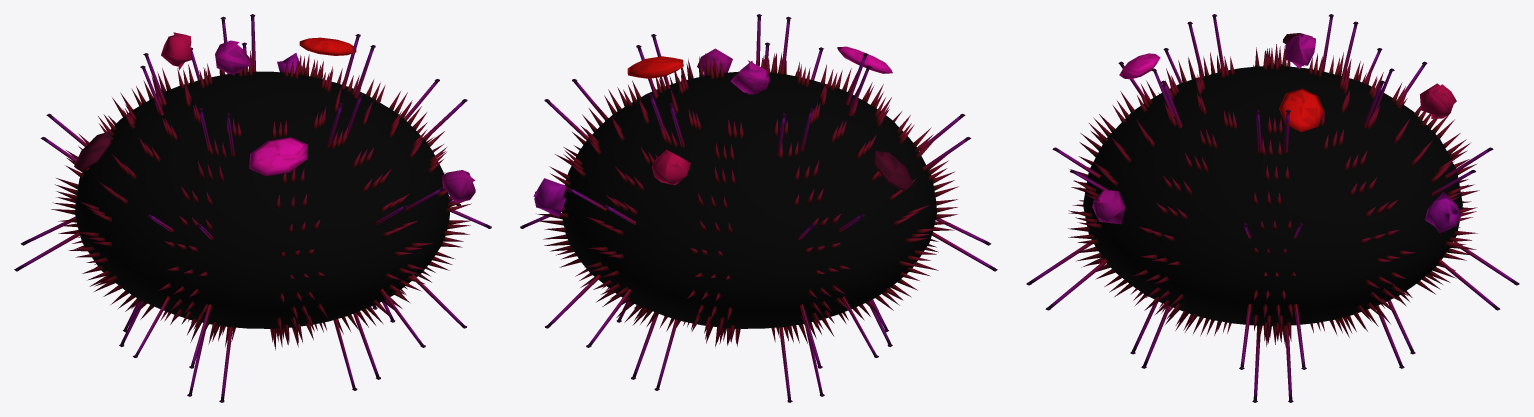
Rendered from tuxedo_urchin.glb.
3 renders of one model, left to right at view 1: azimuth 30°, elevation 25°; view 2: azimuth 150°, elevation 25°; view 3: azimuth 270°, elevation 25°, orthographic.
Parts seen in each view (by area): view 1: Test, Spines, TubeFeet, Debris; view 2: Test, Spines, TubeFeet, Debris; view 3: Test, Spines, TubeFeet, Debris.
Boxes of the visible parts, <box> form: Test: <box>75,71,449,328</box>; Spines: <box>51,50,471,350</box>; TubeFeet: <box>14,14,491,402</box>; Debris: <box>74,32,475,202</box>; Test: <box>562,71,936,328</box>; Spines: <box>536,49,958,346</box>; TubeFeet: <box>520,14,997,402</box>; Debris: <box>533,46,913,216</box>; Test: <box>1083,66,1462,325</box>; Spines: <box>1068,44,1479,347</box>; TubeFeet: <box>1026,14,1519,402</box>; Debris: <box>1092,33,1461,233</box>.
Bounding box in the file's own units: 1.24 × 0.8774 × 1.3.
1 material, 1 textured.
